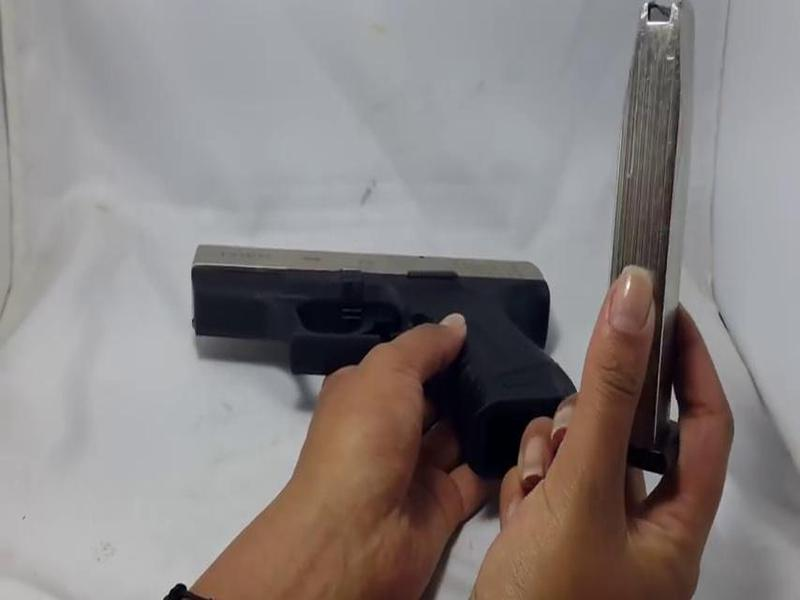Pistola: (159, 219, 587, 471)
